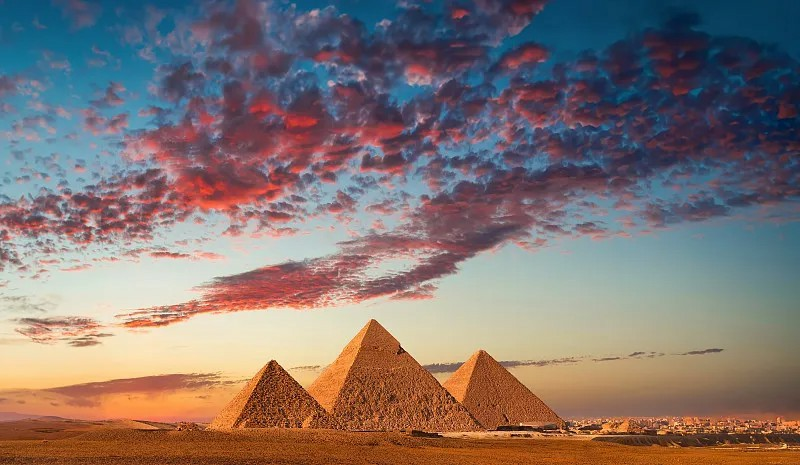Pyramid: (307, 320, 487, 433), (442, 351, 571, 428), (205, 361, 348, 428)
